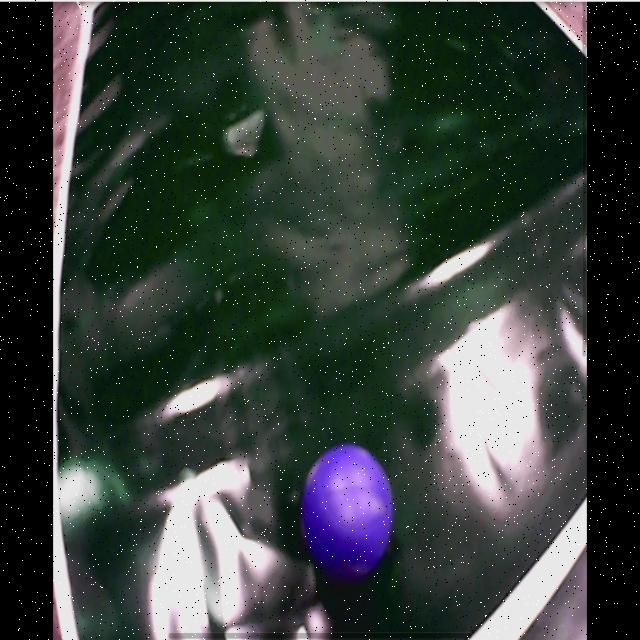ball: (303, 445, 394, 578)
